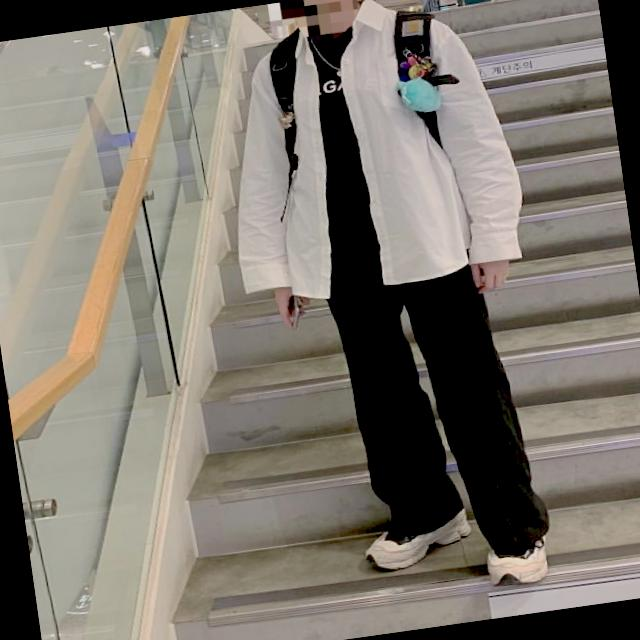shirt: (203, 0, 535, 310)
slacks: (310, 183, 556, 576)
